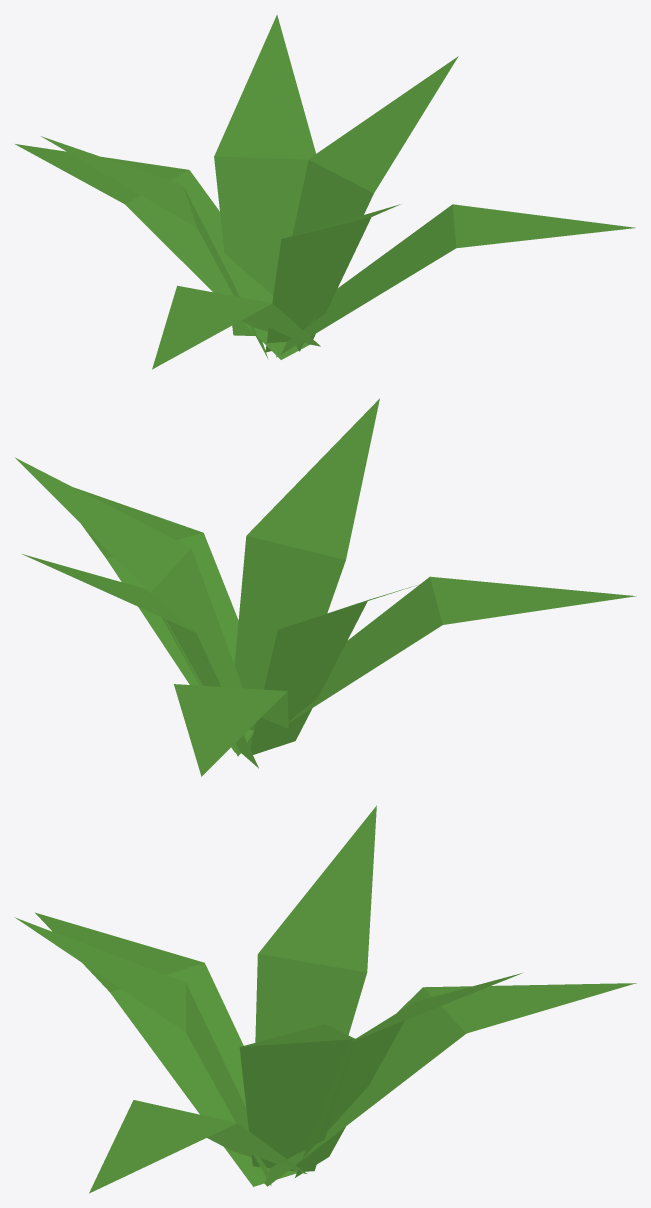
File: grass-clumb.glb
3 views of the same model, one above another, from view 1: azimuth 30°, elevation 25°; view 2: azimuth 150°, elevation 25°; view 3: azimuth 270°, elevation 25° (orthographic). The views are drawn at different scales.
Visible parts, largest first — view 1: grass-clumb; view 2: grass-clumb; view 3: grass-clumb.
Part boxes in pixels (box(x1,y1,x2,y2)): grass-clumb: box(15, 14, 635, 369); grass-clumb: box(15, 398, 636, 776); grass-clumb: box(14, 805, 636, 1193).
Bounding box in the file's own units: 0.9002 × 0.3824 × 0.8423.
1 material, 1 textured.
